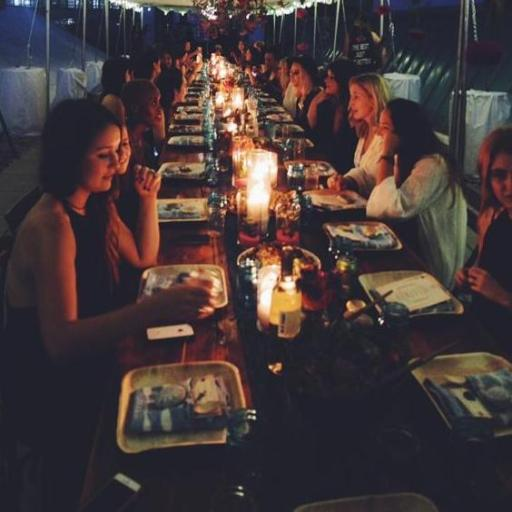person: (1, 100, 210, 510), (367, 99, 466, 289), (456, 126, 511, 345), (328, 74, 389, 196), (118, 80, 165, 229), (308, 59, 357, 172), (291, 56, 319, 136), (344, 15, 381, 73), (101, 57, 132, 122), (256, 48, 282, 102), (278, 58, 296, 117), (133, 49, 161, 83), (231, 40, 247, 68)
